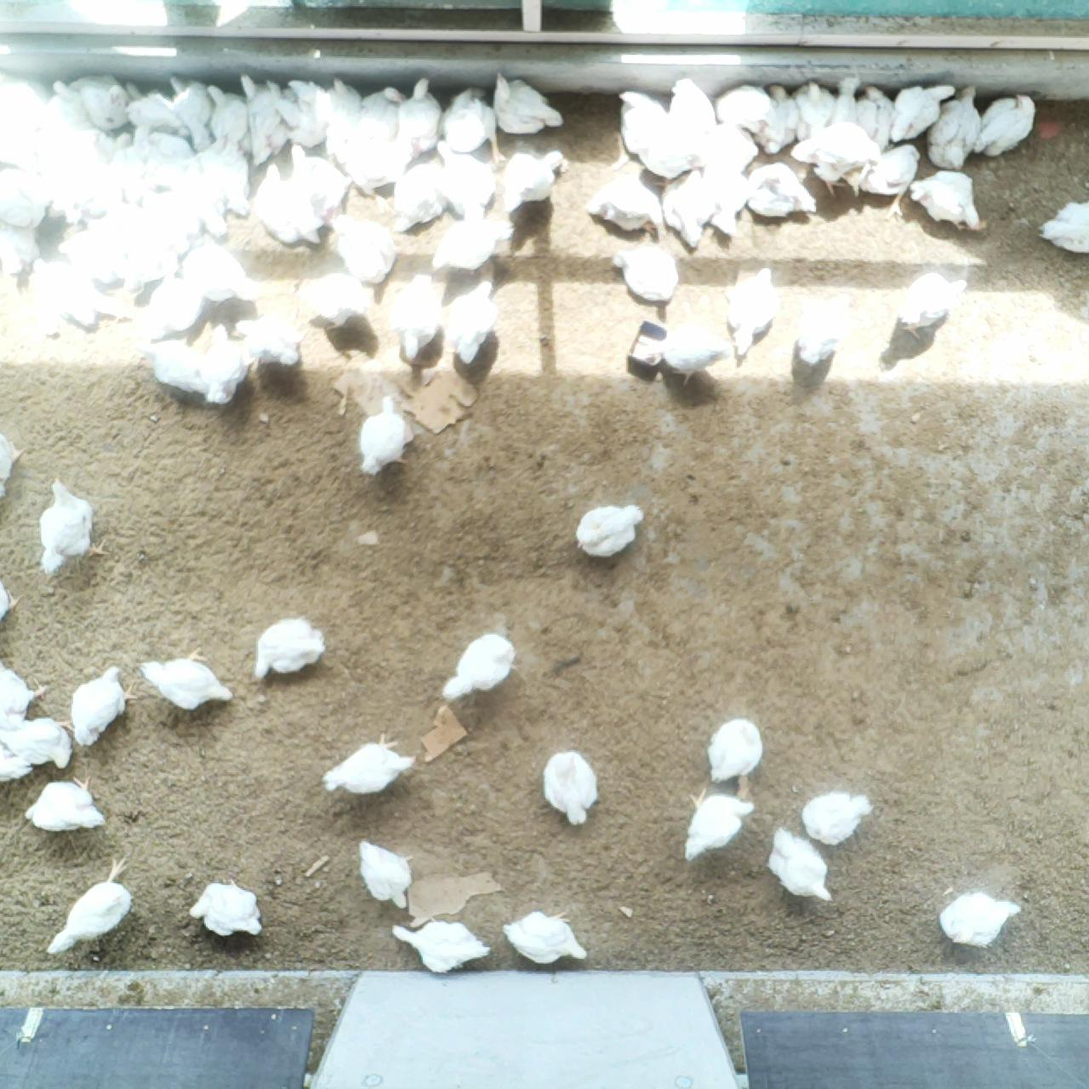chicken: (46, 857, 137, 957), (38, 476, 111, 576), (140, 643, 234, 717), (795, 119, 883, 198), (320, 731, 414, 798), (249, 164, 322, 249), (643, 320, 734, 387), (441, 631, 519, 706), (389, 920, 494, 975), (891, 270, 970, 343), (178, 234, 261, 303), (679, 786, 754, 861), (849, 142, 922, 219), (765, 825, 835, 905), (70, 664, 137, 747), (31, 253, 98, 335), (499, 907, 589, 968), (328, 208, 398, 285), (252, 613, 326, 685), (584, 171, 663, 238), (340, 135, 422, 199), (284, 143, 353, 219), (938, 889, 1024, 949), (909, 166, 984, 234), (386, 271, 442, 362), (659, 163, 718, 248), (22, 773, 107, 832), (723, 267, 778, 358), (433, 139, 496, 218), (387, 155, 449, 235), (490, 69, 565, 135), (297, 268, 378, 329), (446, 275, 500, 366), (926, 86, 983, 172), (0, 704, 74, 770), (499, 146, 568, 216), (357, 393, 413, 479), (430, 214, 512, 272), (188, 877, 263, 940), (442, 86, 502, 164), (543, 749, 602, 828), (611, 237, 679, 303), (232, 312, 305, 373), (703, 713, 764, 786), (119, 79, 193, 139), (800, 789, 874, 849), (792, 292, 850, 368), (200, 322, 251, 408), (572, 502, 645, 562), (745, 160, 817, 220), (700, 158, 753, 239), (205, 130, 254, 217), (889, 80, 954, 145), (355, 835, 411, 910), (975, 90, 1035, 158), (137, 339, 211, 394), (164, 70, 215, 149), (177, 158, 229, 235), (636, 131, 705, 189), (44, 152, 97, 225), (752, 82, 804, 156), (619, 90, 674, 158), (670, 75, 718, 151), (395, 78, 443, 153), (115, 237, 179, 293), (149, 270, 206, 332), (135, 197, 194, 256), (696, 119, 758, 173), (0, 658, 47, 729), (788, 78, 838, 144), (713, 83, 775, 136), (58, 229, 122, 280), (1035, 194, 1089, 254), (0, 161, 48, 228), (851, 84, 898, 152), (358, 85, 410, 146), (79, 73, 132, 131), (204, 79, 248, 147), (0, 197, 38, 275), (67, 123, 134, 167), (111, 125, 158, 187), (285, 75, 337, 131), (0, 69, 47, 129), (238, 70, 282, 133), (240, 112, 288, 168), (45, 78, 93, 134), (144, 189, 201, 235), (825, 75, 864, 138), (319, 77, 364, 131), (0, 120, 44, 175), (105, 201, 156, 247), (263, 79, 308, 128), (0, 419, 23, 500), (282, 114, 330, 152), (145, 128, 197, 163), (0, 736, 31, 789), (0, 564, 23, 626), (116, 174, 158, 207)
